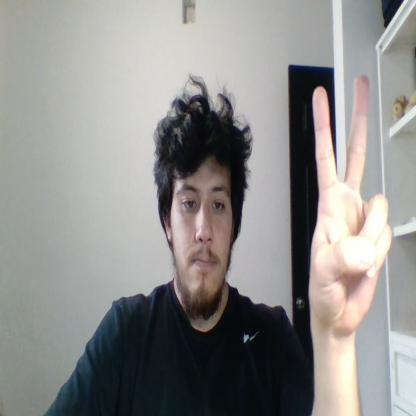V: (309, 75, 391, 334)
